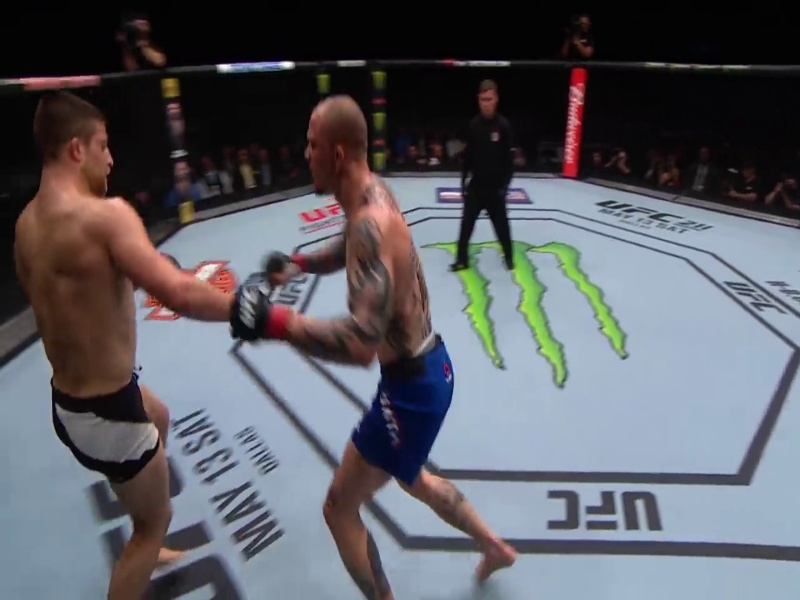fighter: (226, 83, 518, 595), (14, 87, 276, 600)
